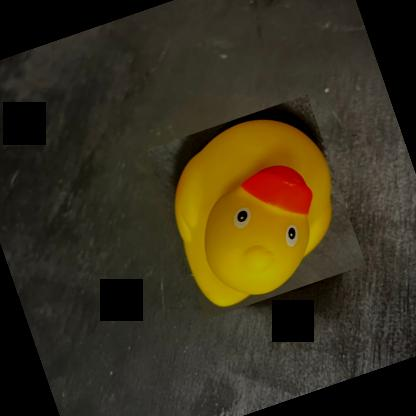duck: (148, 95, 366, 320)
